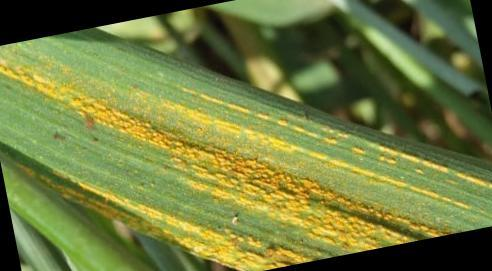Wheat: (5, 54, 287, 197), (222, 159, 445, 254), (99, 196, 309, 271)
